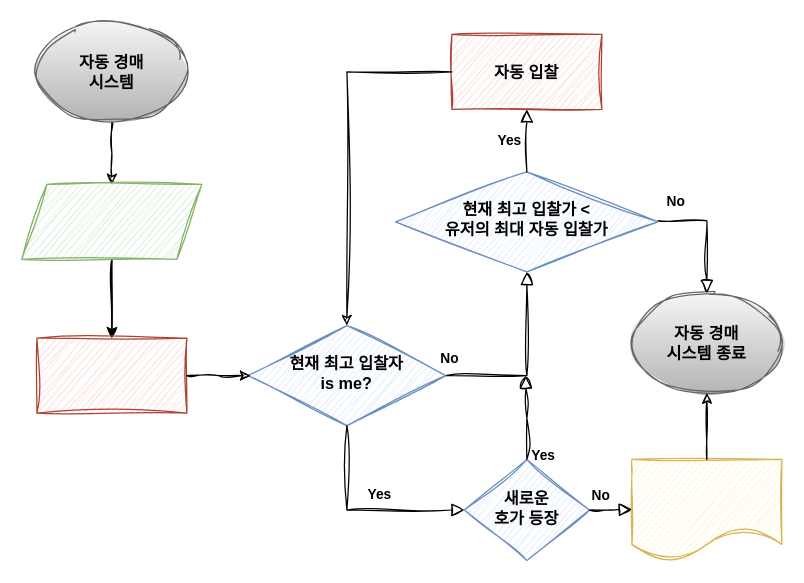
The diagram is 804 pixels wide and 583 high, and some of its shapes have lost their labels. Here are the shapes that lost their labels. From the top down, the box of each, then its label:
(21, 183, 202, 259): 최대 자동 입찰가 입력
(36, 337, 187, 413): 경매 참여
(631, 458, 782, 559): 낙찰 성공 메시지
